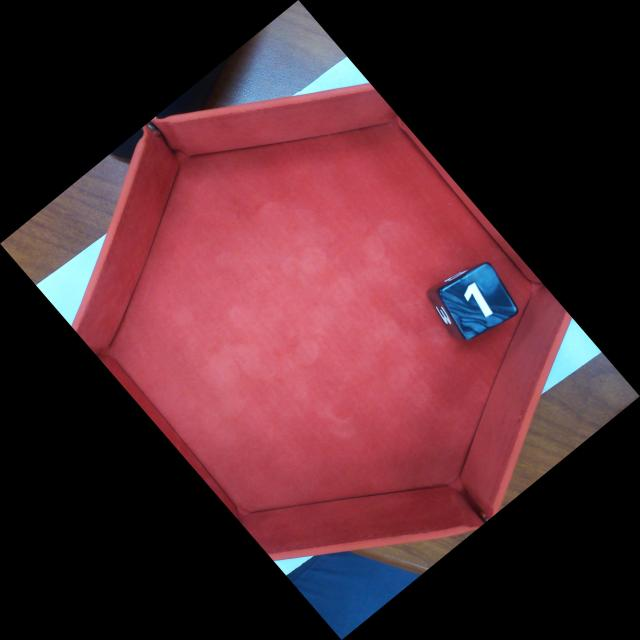dice: (451, 267, 519, 337)
